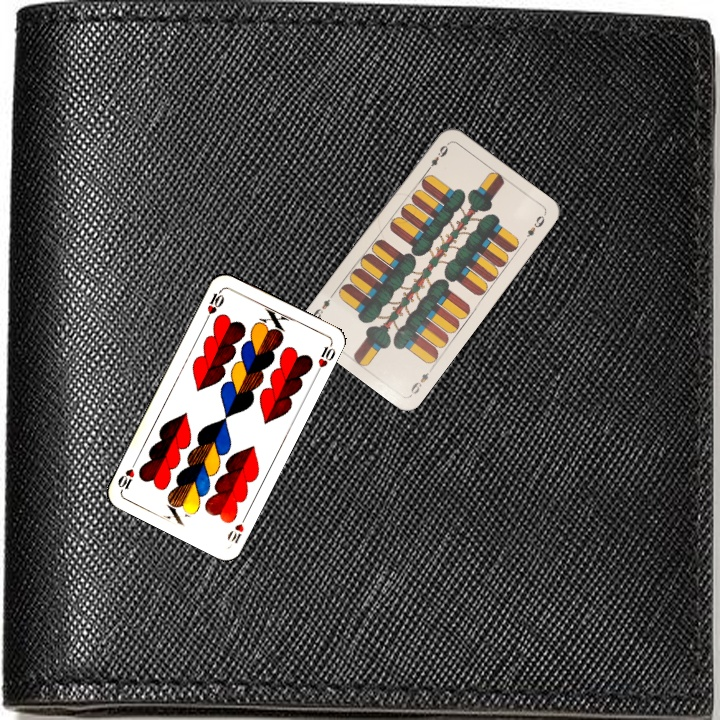E9: (406, 363, 436, 398), (422, 141, 451, 174)
H10: (223, 509, 251, 546), (201, 286, 227, 323)
